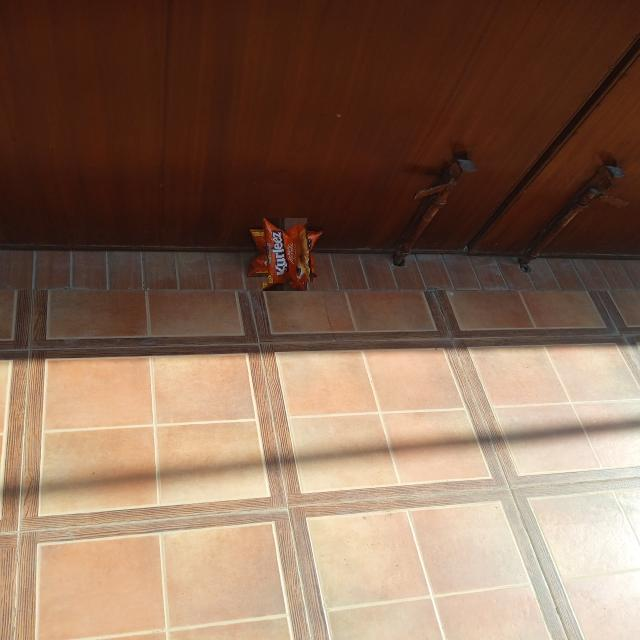Plastic: (256, 225, 314, 283)
